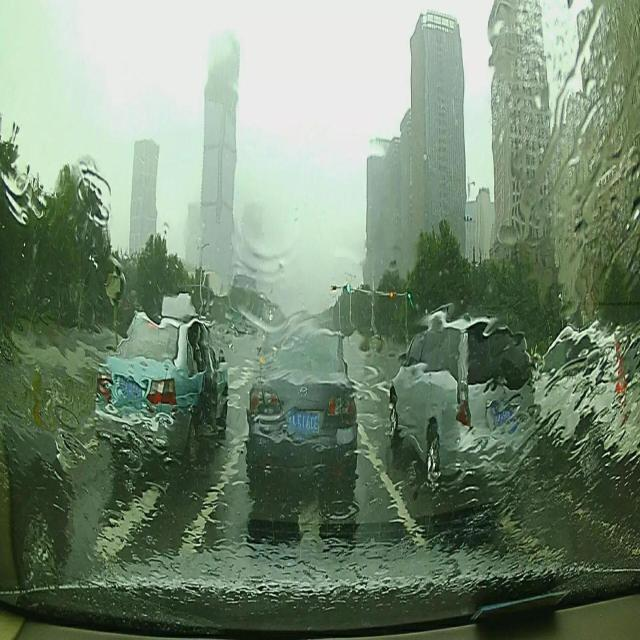car: (388, 314, 534, 492), (248, 320, 356, 496), (101, 309, 226, 456), (528, 322, 636, 472)
